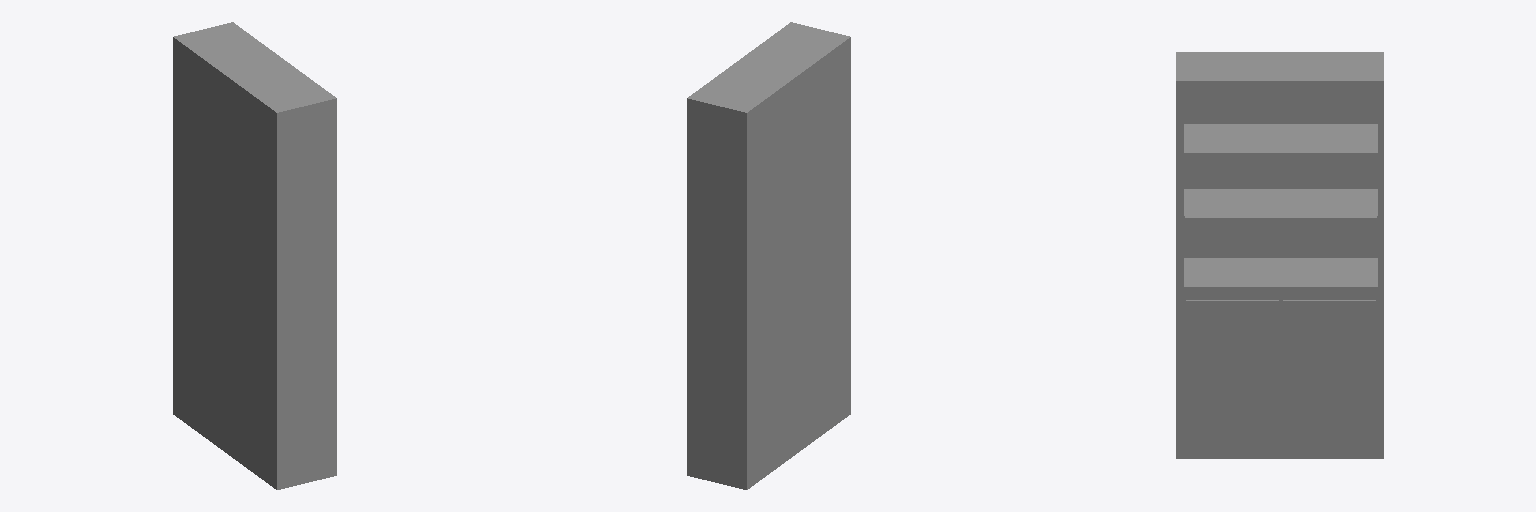
File: Shelf_Body.obj
3 views of the same model, side by side, from view 1: azimuth 30°, elevation 25°; view 2: azimuth 150°, elevation 25°; view 3: azimuth 270°, elevation 25° (orthographic).
Parts seen in each view (by area): view 1: Shelf_Body_Cube.001; view 2: Shelf_Body_Cube.001; view 3: Shelf_Body_Cube.001.
Part boxes in pixels (bbox=[...]): Shelf_Body_Cube.001: bbox=[173, 22, 336, 489]; Shelf_Body_Cube.001: bbox=[687, 22, 850, 489]; Shelf_Body_Cube.001: bbox=[1176, 52, 1383, 458].
Size of the model in its own units: 62 by 360 by 180.